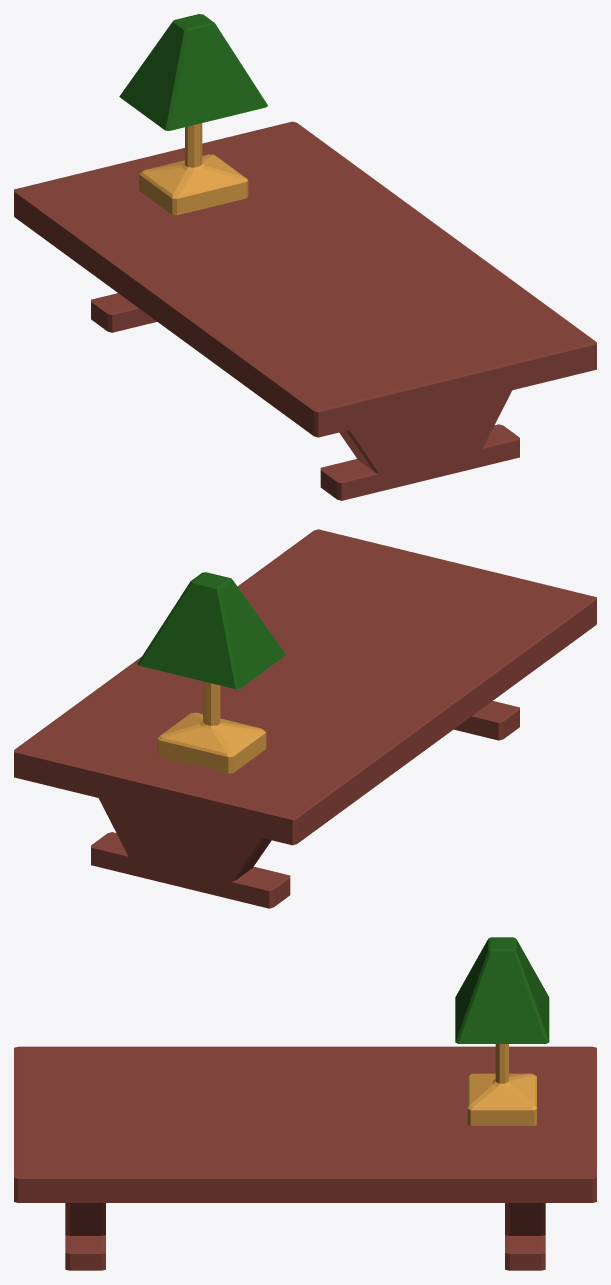
The model's file is Temporary Library Tables.fbx.
3 renders of one model, top to bottom at view 1: azimuth 30°, elevation 25°; view 2: azimuth 150°, elevation 25°; view 3: azimuth 270°, elevation 25°, orthographic. The views are drawn at different scales.
Parts seen in each view (by area): view 1: Library_Table, Library_Lamp; view 2: Library_Table, Library_Lamp; view 3: Library_Table, Library_Lamp.
Boxes of the visible parts, x1=… form: Library_Table: x1=14, y1=121, x2=596, y2=500; Library_Lamp: x1=119, y1=14, x2=267, y2=215; Library_Table: x1=14, y1=529, x2=596, y2=908; Library_Lamp: x1=137, y1=572, x2=285, y2=773; Library_Table: x1=14, y1=1046, x2=596, y2=1270; Library_Lamp: x1=455, y1=937, x2=549, y2=1125.
Bounding box in the file's own units: 285 × 282 × 531.
